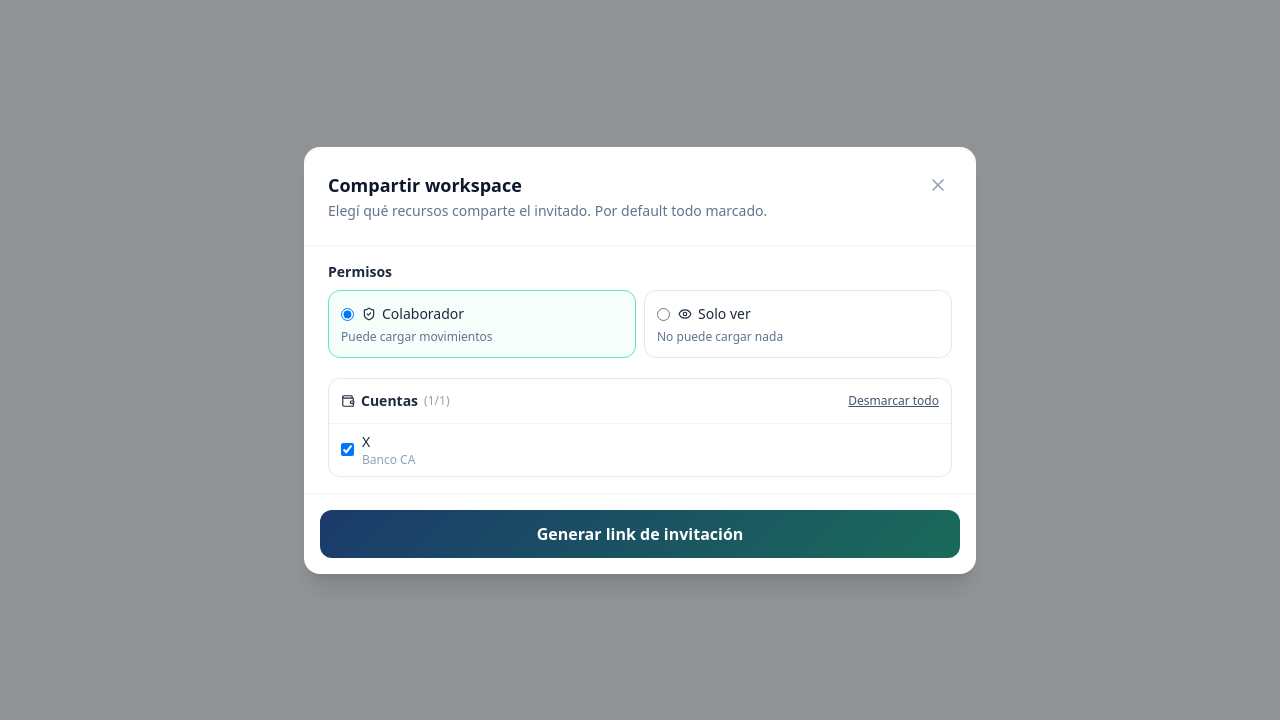
Scenario: ShareWorkspaceModal — submit › happy path: POST devuelve url → muestra link generado
Check: the text "X" is shown, box [362,432,370,450]
What coordinates should you click on to do the following:
click the button "Generar link de invitación"
I would click on:
 (640, 534)
Its box is [320,510,960,558].
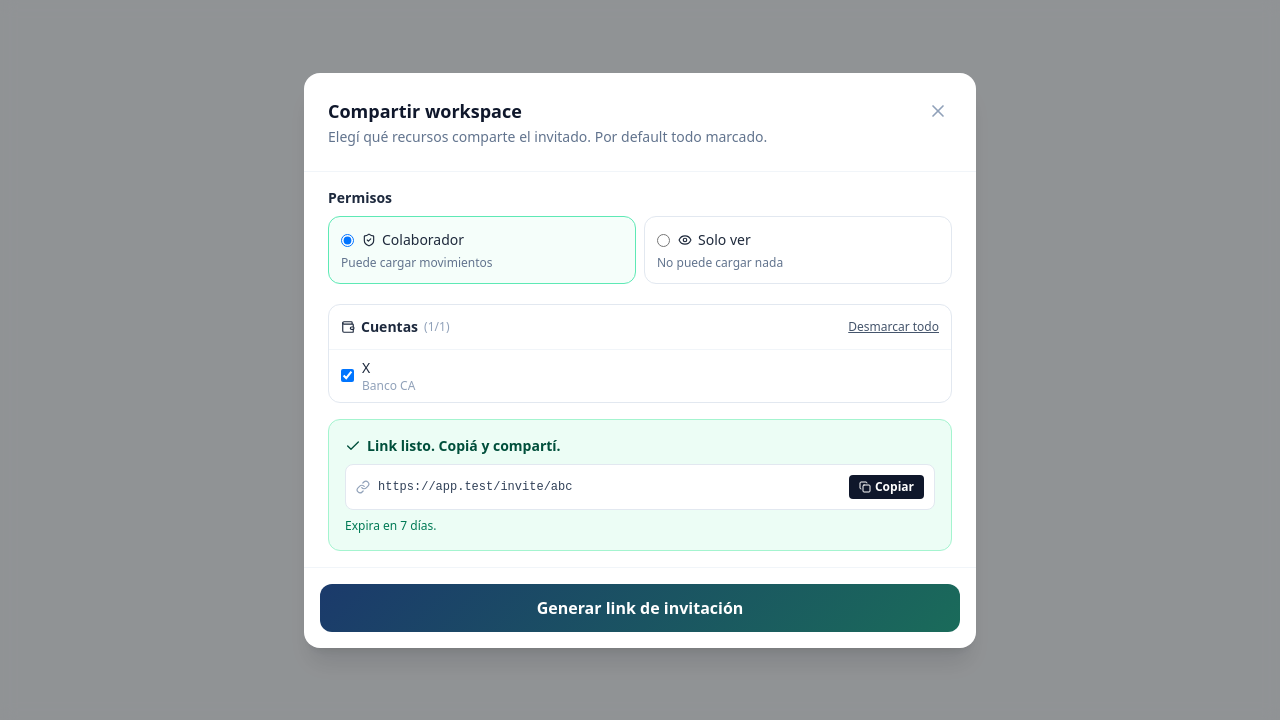
Check: the text "https://app.test/invite/abc" is shown, box [378,480,572,494]
